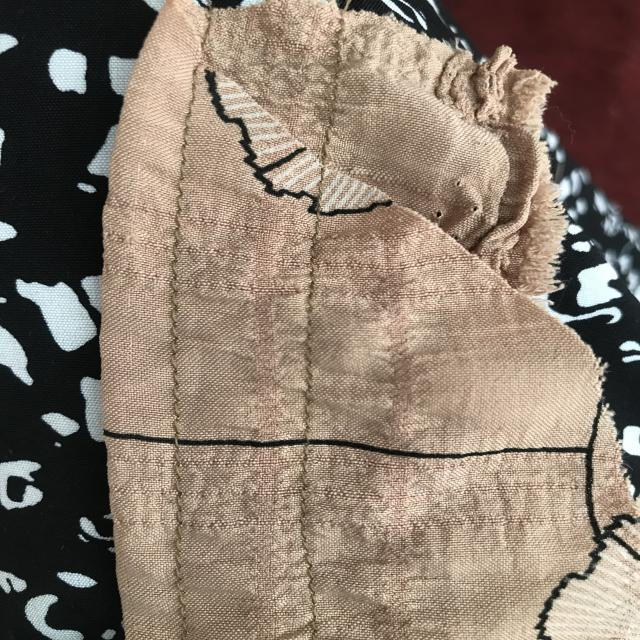good: (167, 398, 200, 580), (160, 180, 191, 370), (303, 286, 318, 446)
